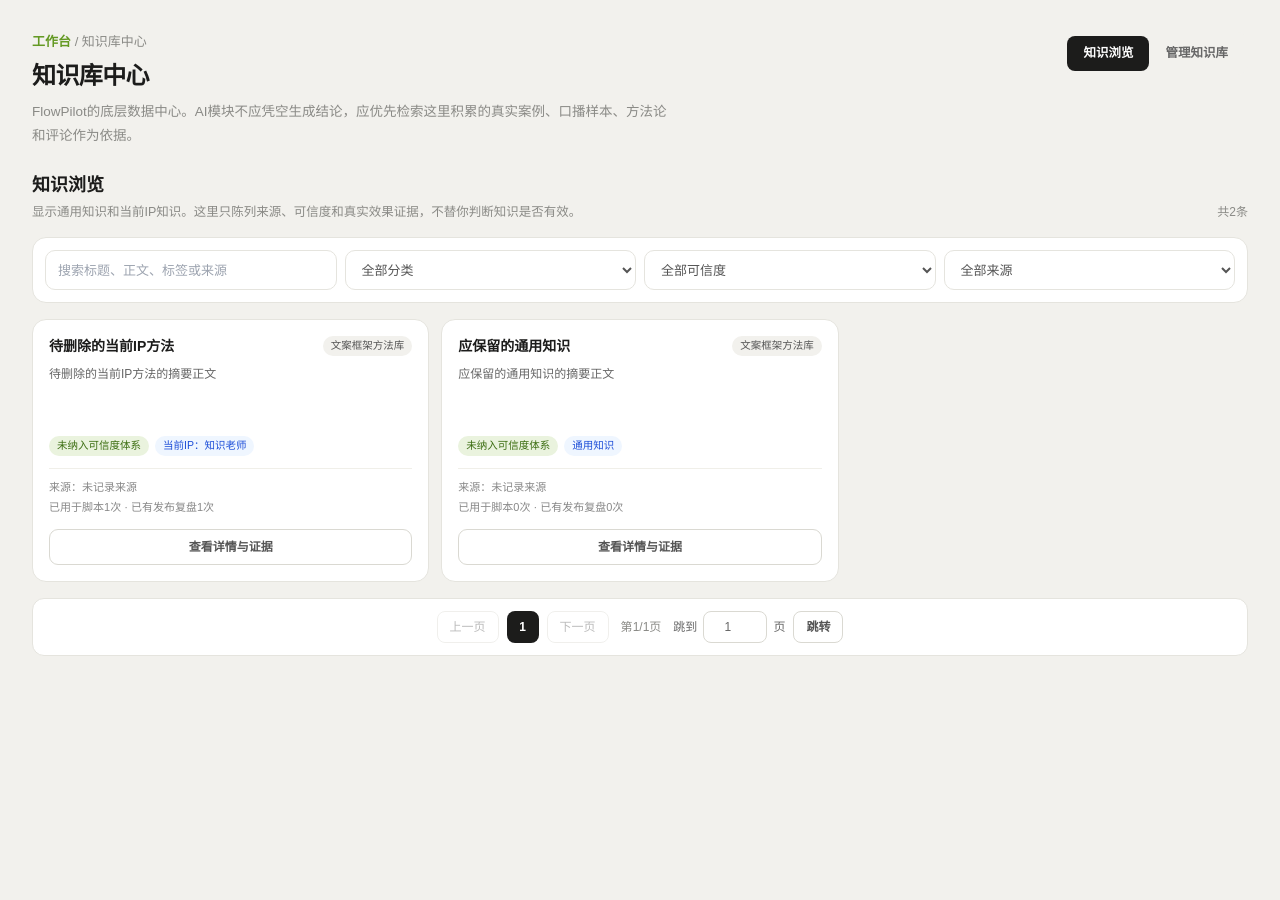
Scenario: 用户在知识详情看清范围和引用影响后确认删除，列表立即刷新且不级联删除脚本复盘
Click the button with aria-label "查看待删除的当前IP方法详情": (231, 547) [49,529,412,565]
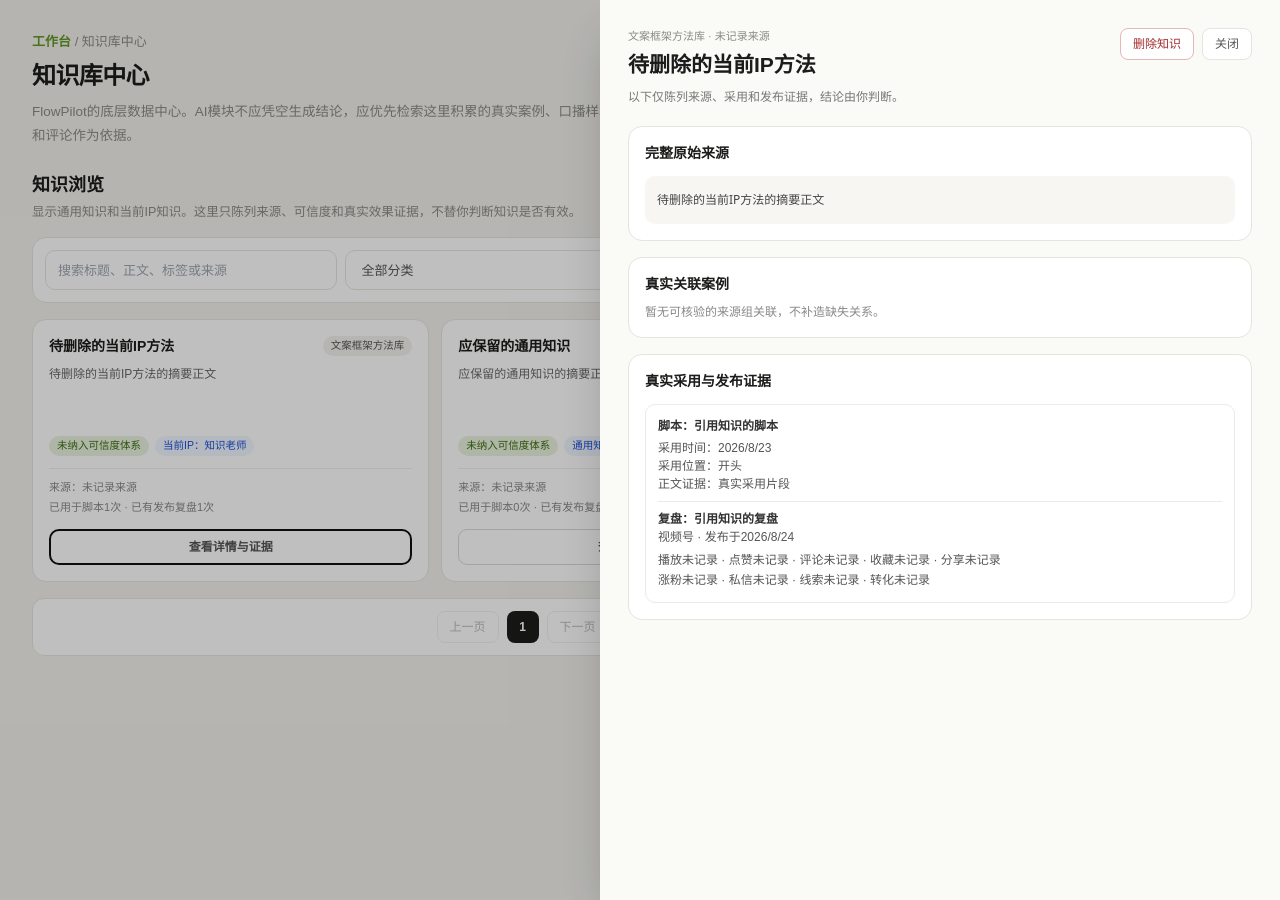
Click the button "删除知识": (1157, 44) [1120,28,1194,60]
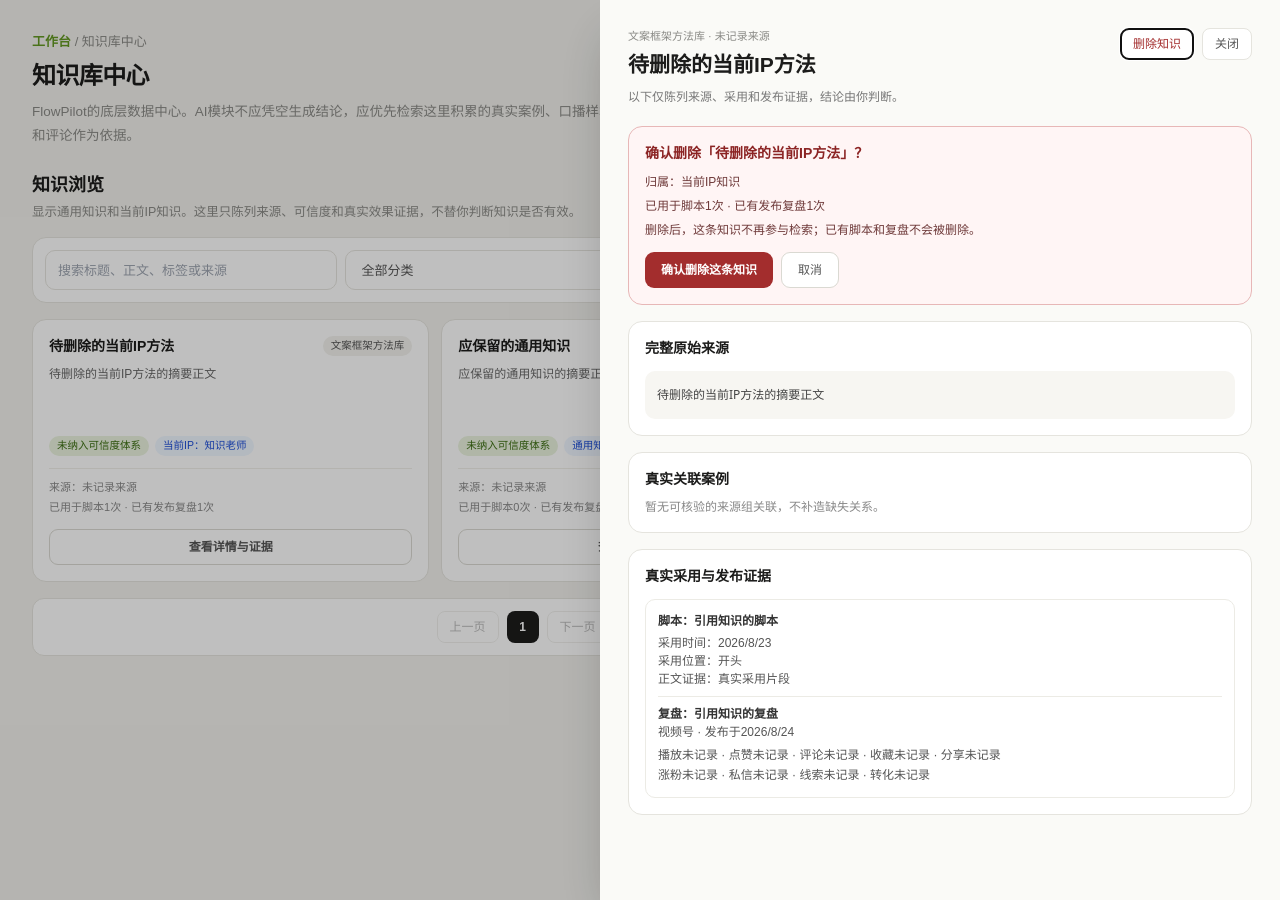
Check: the dialog named "确认删除知识" shows "待删除的当前IP方法", box [715,145,840,161]
Check: the dialog named "确认删除知识" shows "当前IP知识", box [681,175,740,189]
Check: the dialog named "确认删除知识" shows "已用于脚本1次", box [628,126,1252,305]
Click the button "确认删除这条知识": (709, 270) [645,252,773,288]
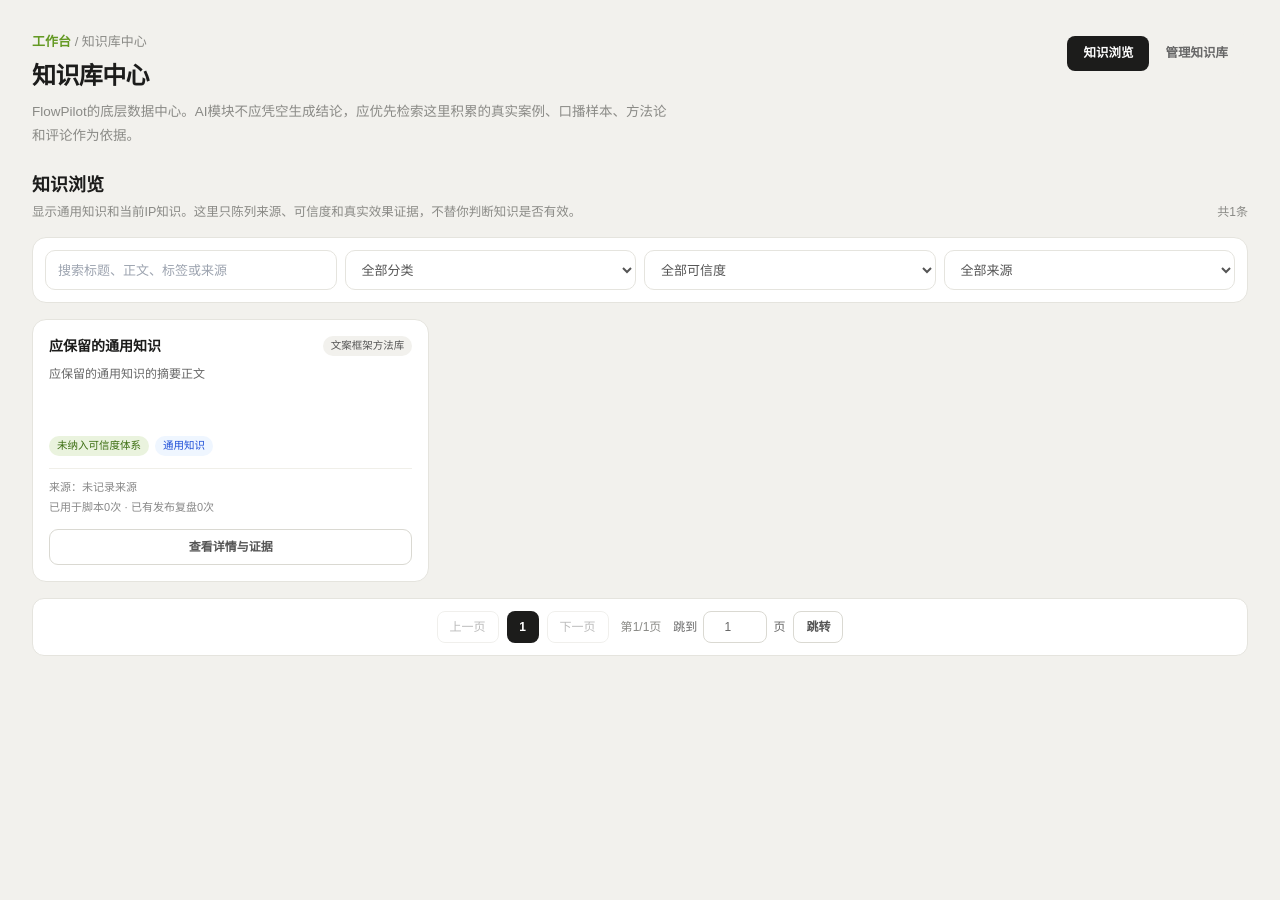
Check: the heading "应保留的通用知识" is shown, box [49,336,161,356]
Check: the heading "待删除的当前IP方法" is gone
